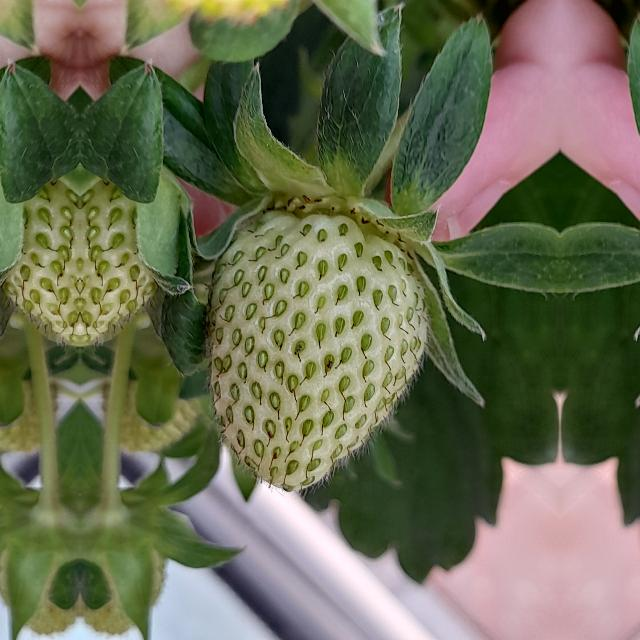Health_25: (202, 206, 434, 500), (80, 152, 166, 350), (0, 152, 80, 350)
